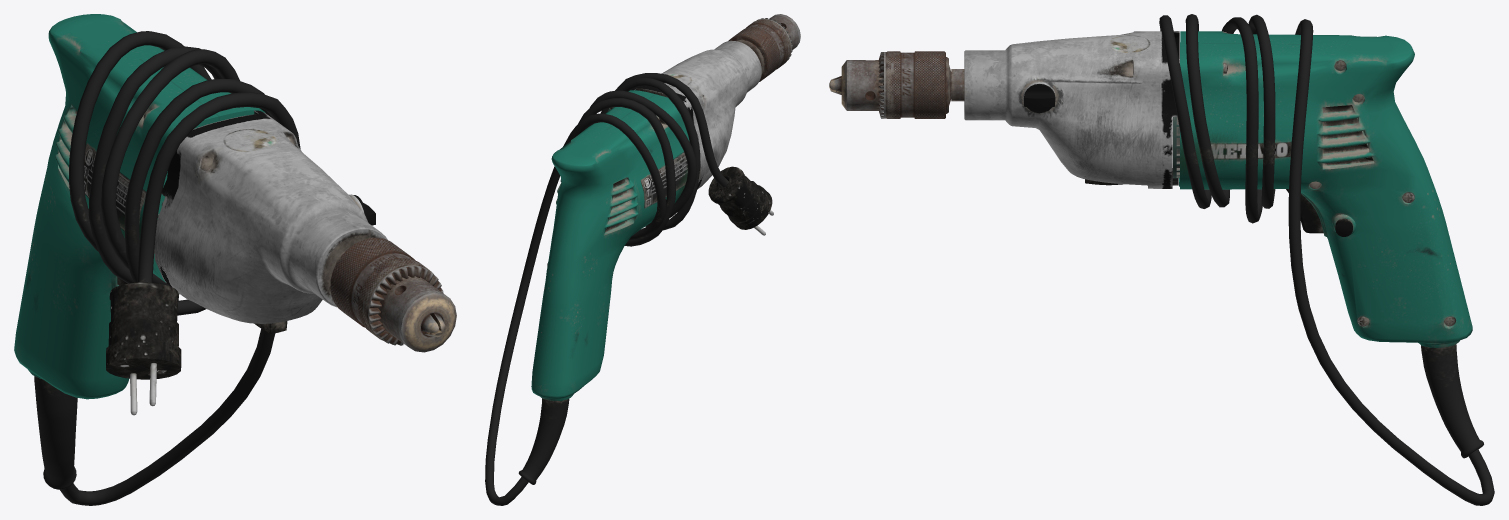
The model's file is drillimpact.glb.
3 renders of one model, left to right at view 1: azimuth 30°, elevation 25°; view 2: azimuth 150°, elevation 25°; view 3: azimuth 270°, elevation 25°, orthographic. The views are drawn at different scales.
Parts seen in each view (by area): view 1: BG_4_low, BG_1_low, BG_5_low, BG_3_low, BG_2_low; view 2: BG_1_low, BG_5_low, BG_4_low, BG_3_low, BG_2_low; view 3: BG_1_low, BG_4_low, BG_5_low, BG_2_low, BG_3_low.
Part boxes in pixels (x1,y1,x2,y2): BG_4_low: (154,110,443,372); BG_1_low: (14,14,442,399); BG_5_low: (60,31,300,505); BG_3_low: (106,251,456,379); BG_2_low: (34,110,445,489); BG_1_low: (531,90,689,400); BG_5_low: (485,73,728,505); BG_4_low: (631,18,792,189); BG_3_low: (708,14,800,229); BG_2_low: (518,107,773,484); BG_1_low: (829,31,1472,347); BG_4_low: (829,31,1179,188); BG_5_low: (1159,14,1494,505); BG_2_low: (829,32,1483,458); BG_3_low: (841,57,951,113).
Size of the model in its own units: 14.27 by 27.06 by 35.57.
Materials: 1 (1 with a texture image).
